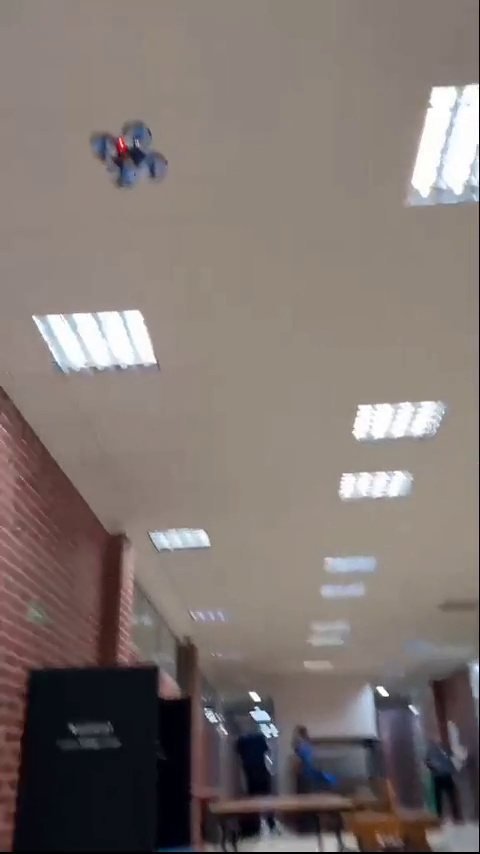drone: (86, 120, 165, 189)
no vest: (415, 734, 469, 814), (289, 721, 343, 796)
